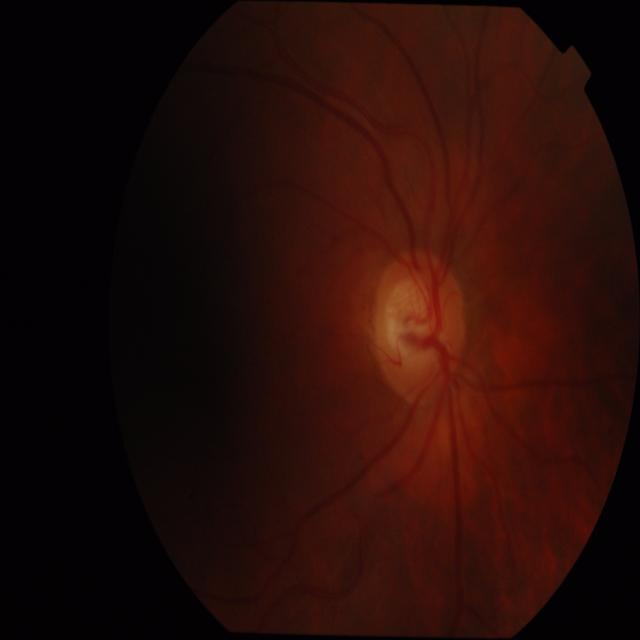OC: (385, 279, 448, 366)
OD: (372, 247, 467, 402)
